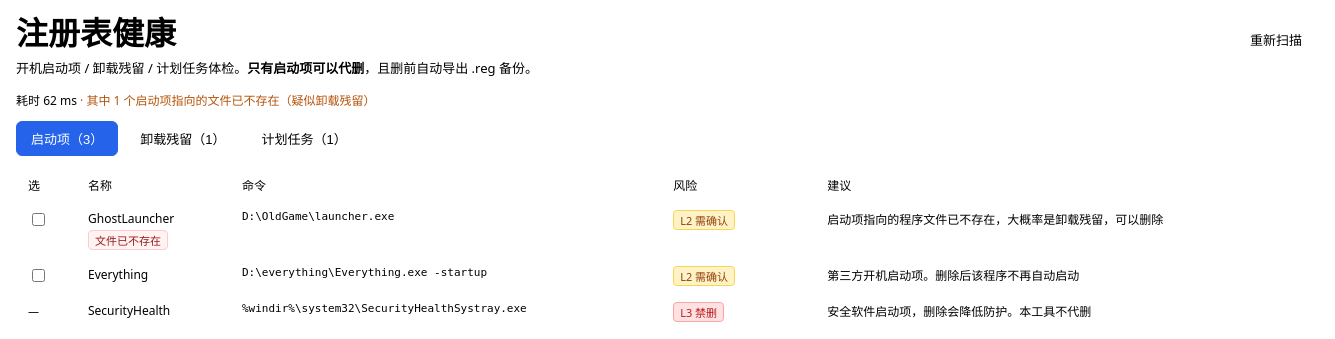
Test: 注册表健康中心 › 计划任务 tab 只读，且说明不代删
The width and height of the screenshot is (1335, 339).
Check: the button "启动项（3）" is shown, box [16,121,118,156]
Click the button "计划任务（1）" at (304, 138), box [248,121,361,156]
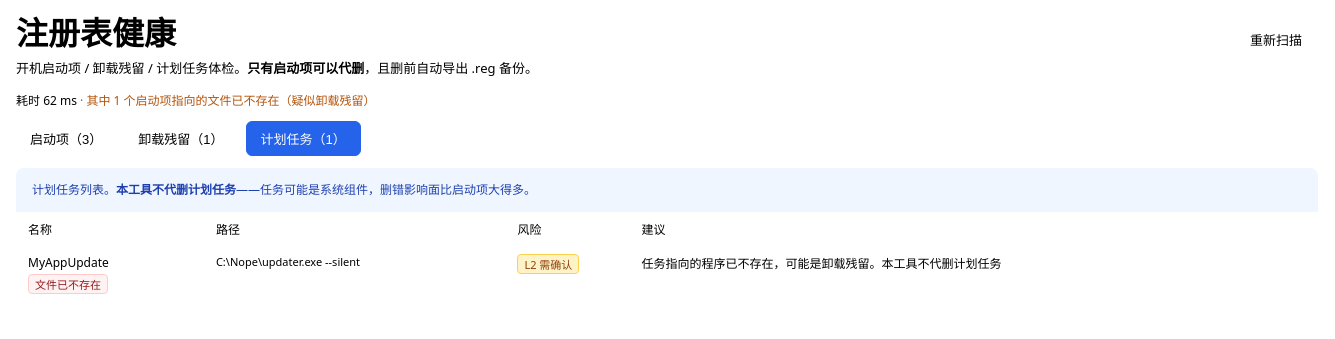
Check: the text "MyAppUpdate" is shown, box [28,254,109,271]
Check: no checkboxes are shown
Check: the text "本工具不代删计划任务" is shown, box [116,181,236,198]
